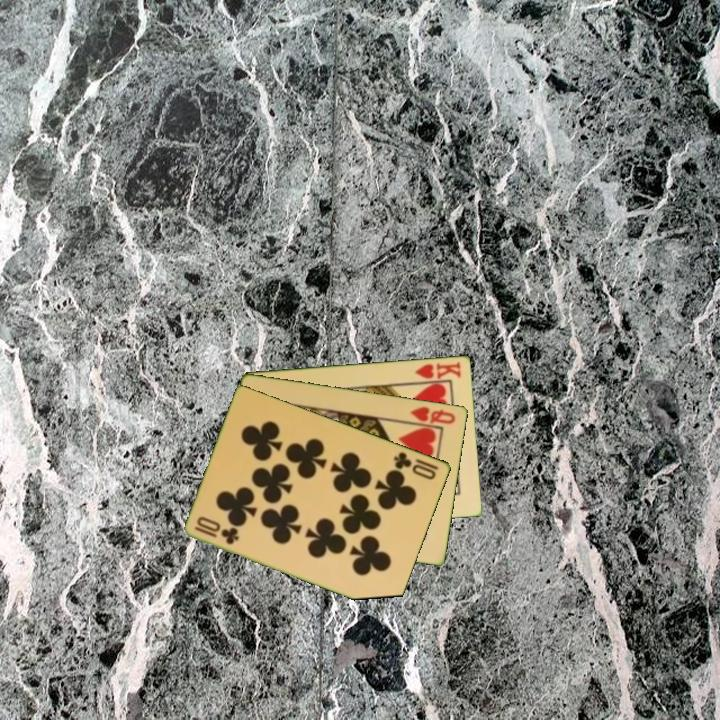10c: (390, 448, 442, 482), (191, 513, 242, 547)
Kh: (409, 358, 464, 385)
Qh: (407, 403, 458, 427)
